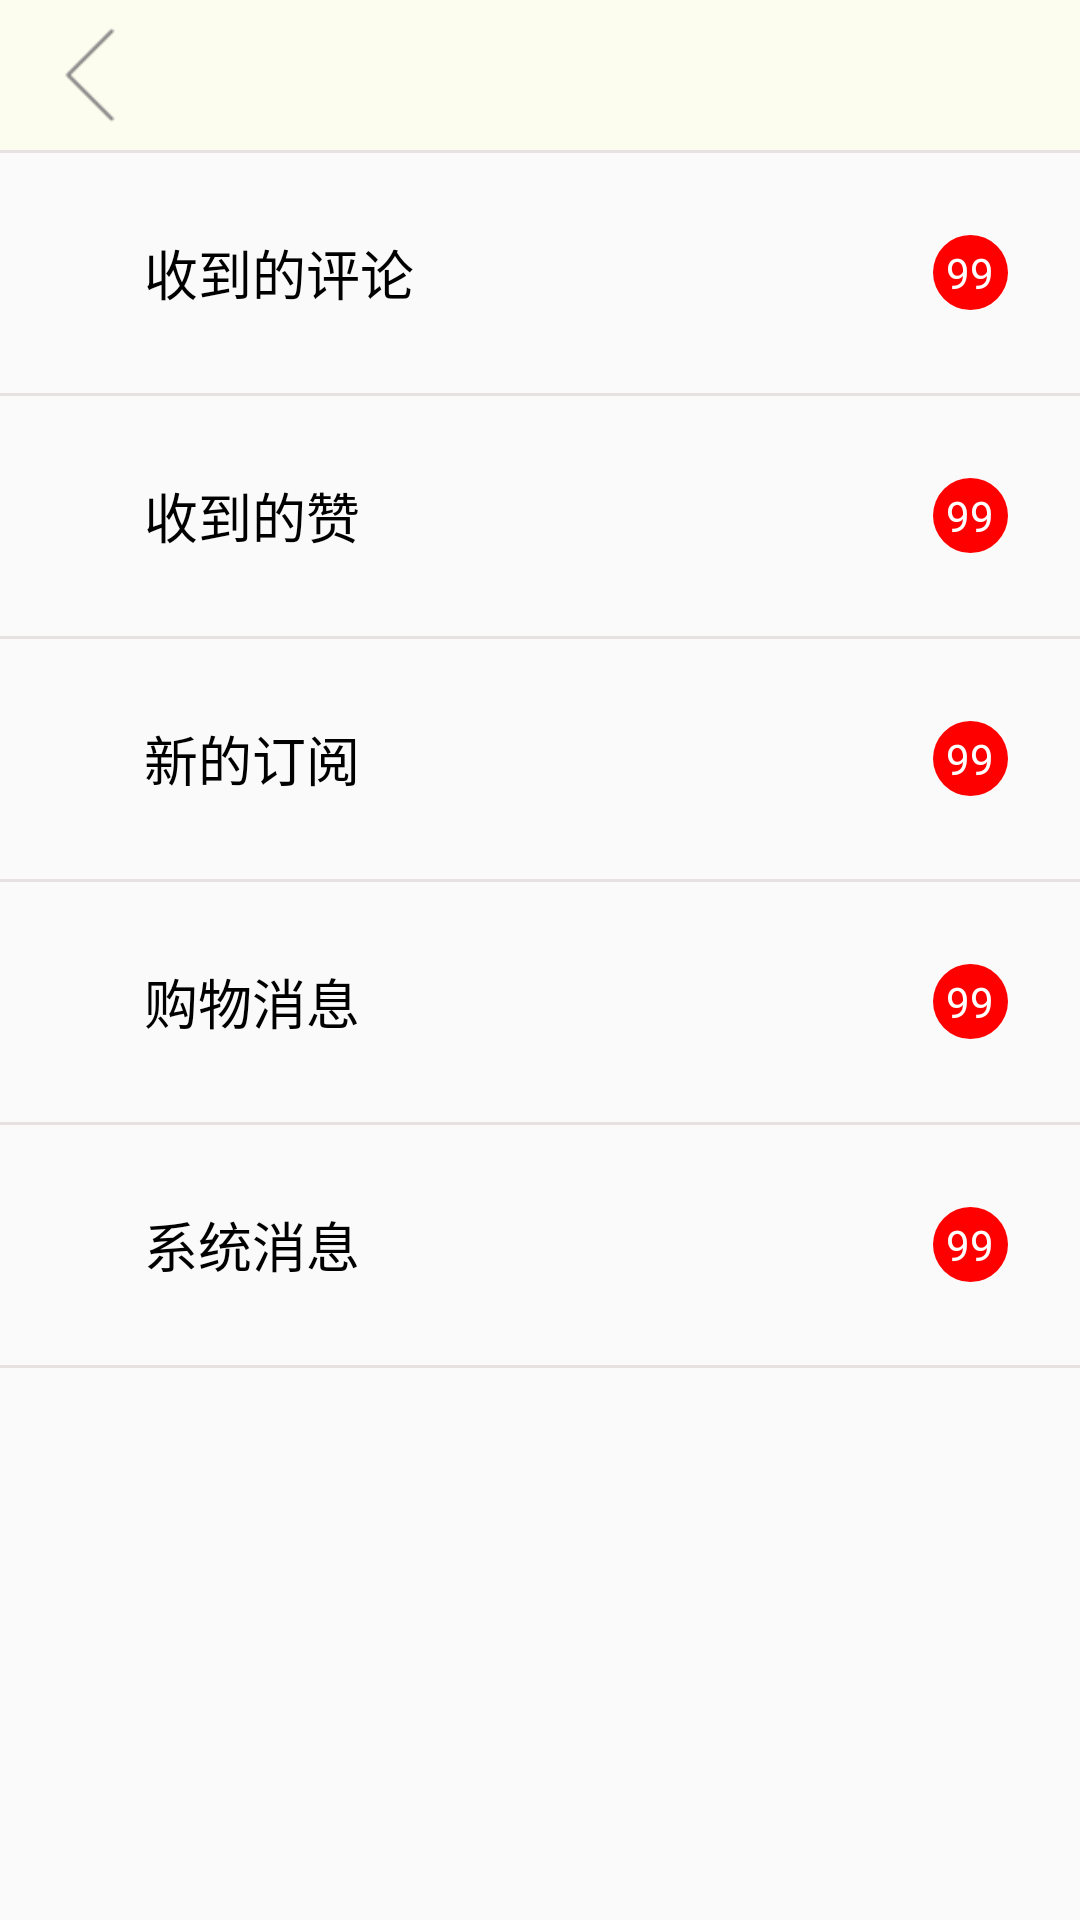

Screen size 1080 x 1920. Icon name, then its box in pixels as bbox=[x1, y1, x2, y2]:
back: bbox=[65, 29, 114, 121]
